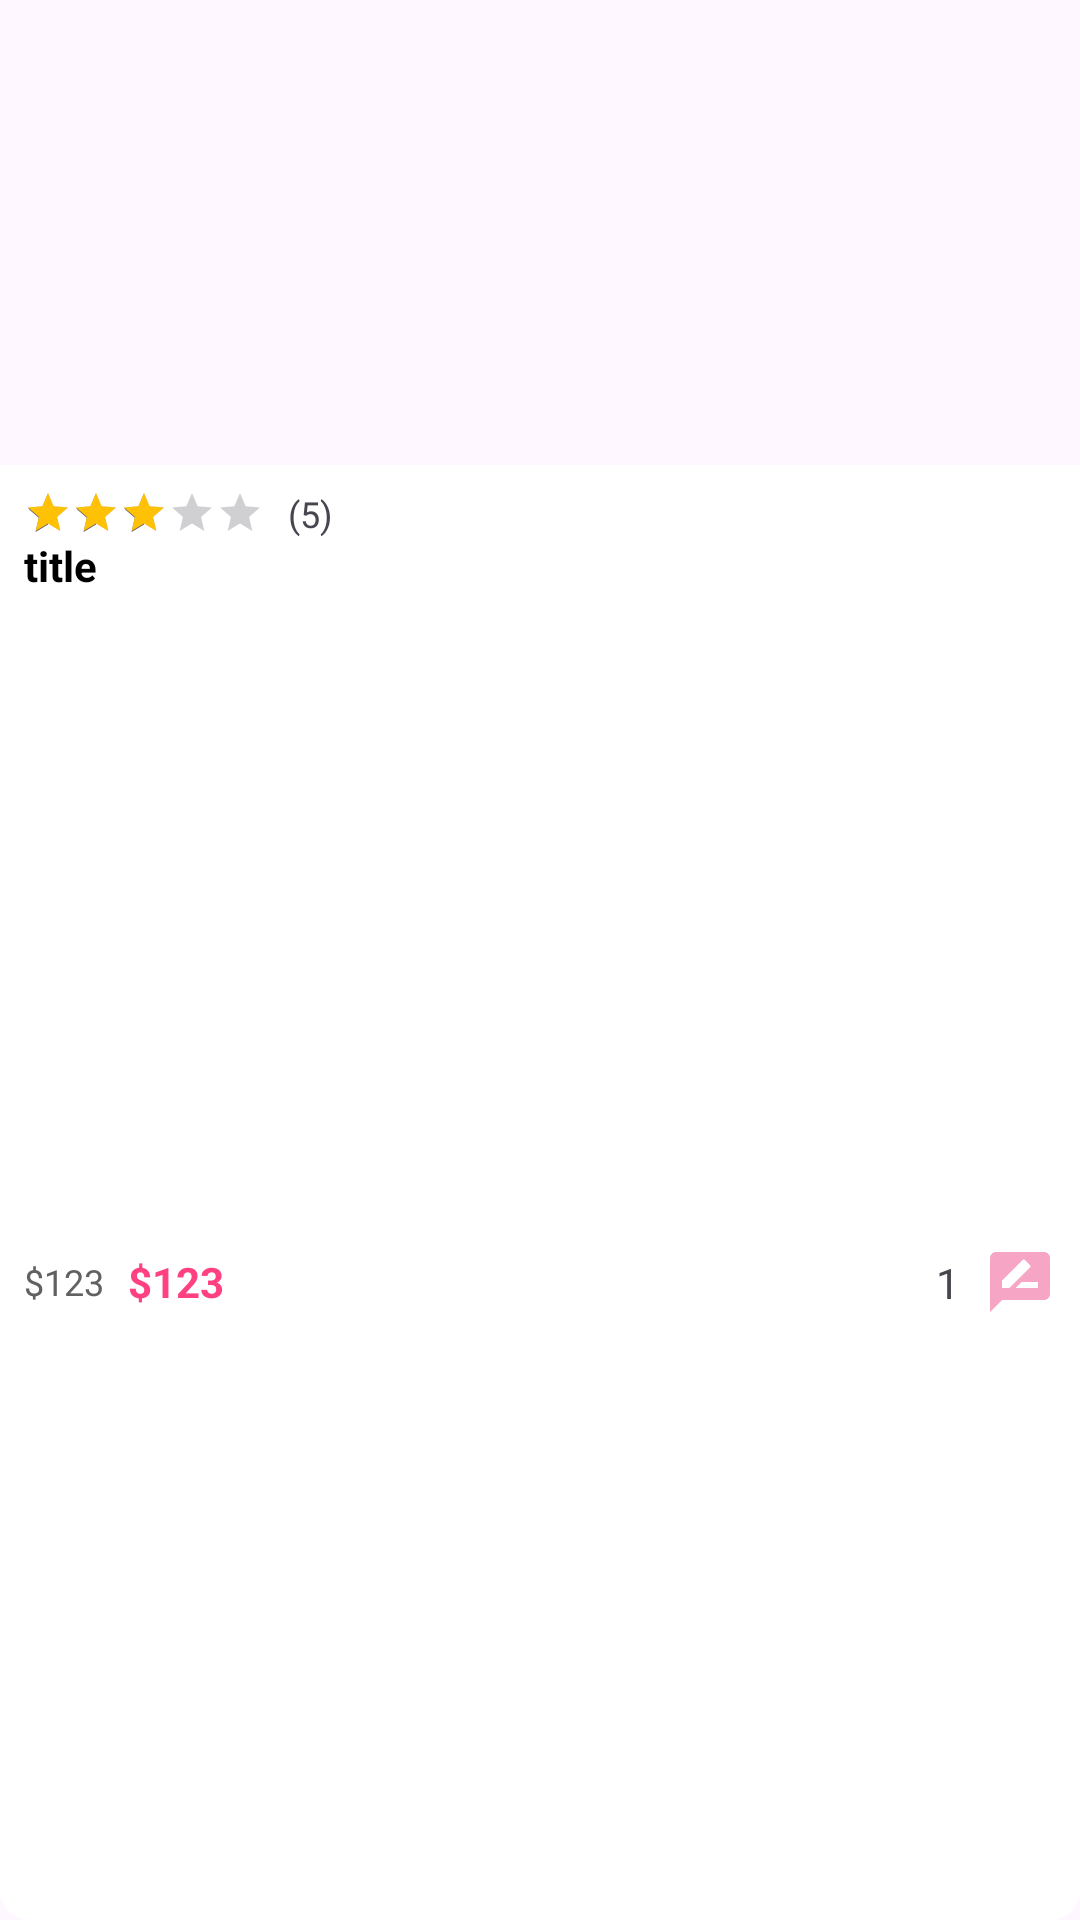

Icon click points for this 1080px×1920px phone screenshot, format [x,y]:
rate review: [1020,1282]
